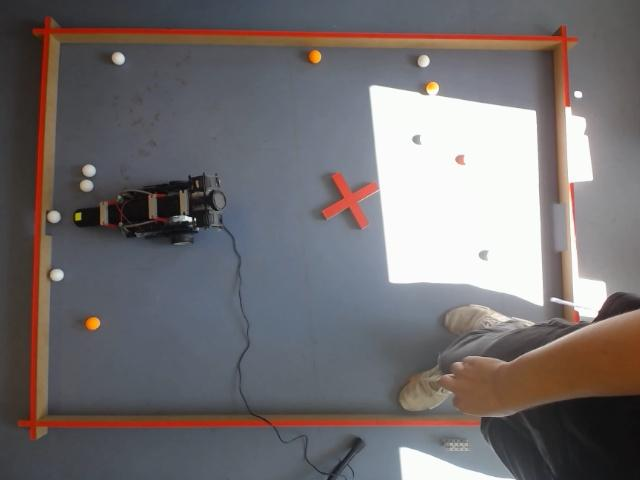orange: (85, 316, 101, 331), (308, 50, 322, 65)
robot: (72, 175, 226, 244)
robot-front: (73, 208, 98, 226)
white: (49, 268, 65, 282), (46, 209, 60, 224), (79, 179, 94, 193), (416, 54, 430, 68), (82, 164, 96, 177), (111, 52, 124, 65)
